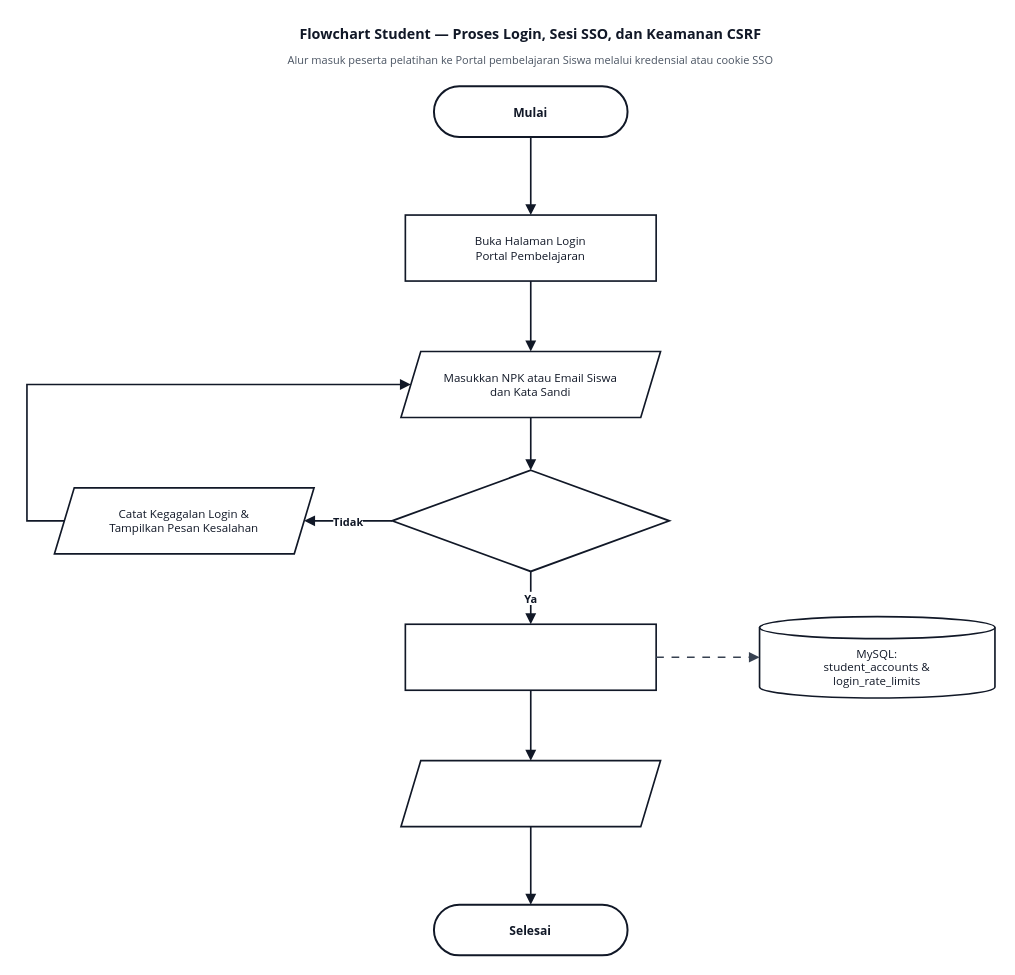
This 1015x975 diagram has some shape labels left out. The box of each missing label's shape, as (x1, y1, x2, y2) in pixels:
Arahkan Peserta ke Halaman Beranda Portal Siswa: (400, 759, 661, 827)
Batas Rate-Limit Aman & Kredensial Valid?: (391, 469, 670, 572)
Bentuk Sesi PHP Siswa, Cookie SSO & Token Keamanan CSRF: (404, 623, 656, 691)
